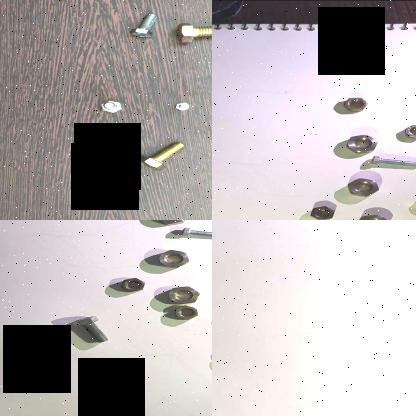Bolts: (66, 312, 118, 348), (136, 141, 190, 173), (125, 10, 161, 40), (177, 19, 212, 45), (366, 154, 416, 167), (169, 226, 212, 241), (97, 96, 127, 114)
NUTS: (150, 246, 193, 270), (168, 283, 205, 304), (163, 303, 205, 320), (344, 133, 378, 153), (335, 94, 369, 114), (115, 272, 148, 292), (348, 178, 380, 198), (309, 202, 337, 220), (398, 121, 416, 139), (357, 211, 391, 220), (147, 220, 189, 226)
